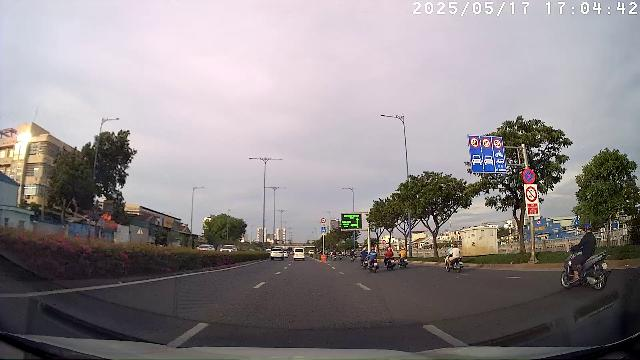127-toc-do-toi-da-50: (492, 138, 502, 150)
127-toc-do-toi-da-60: (470, 136, 480, 148), (482, 138, 492, 148)
130-cam-dung-va-do-xe: (523, 168, 535, 184)
